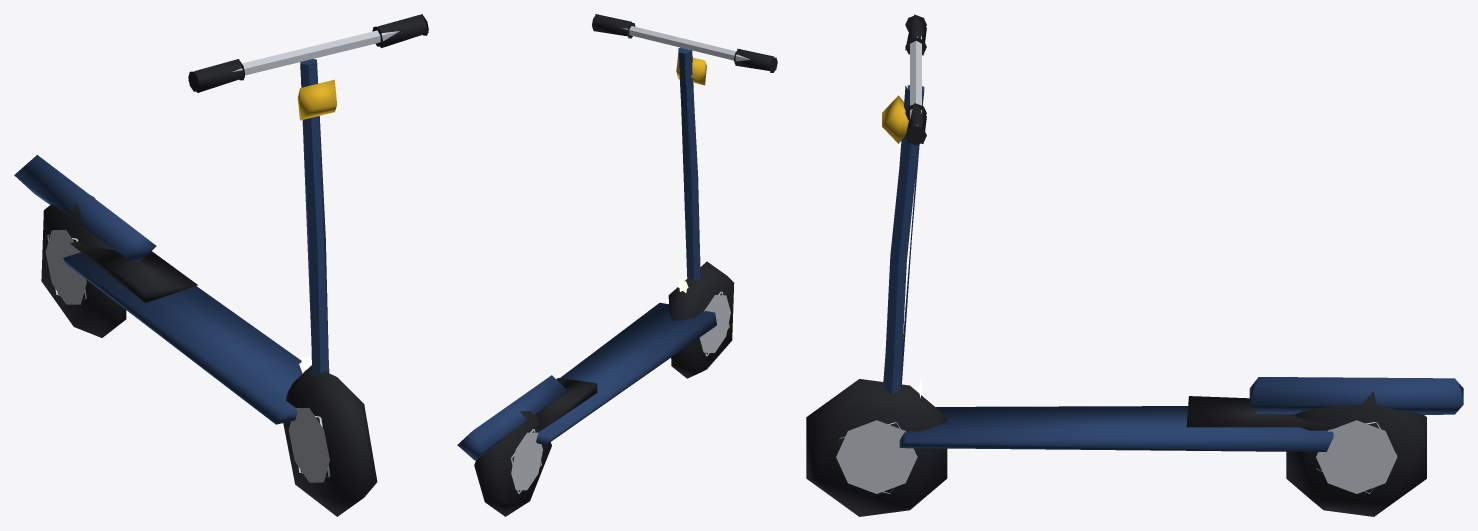
Rendered from lod_kick_scooter.glb.
3 views of the same model, side by side, from view 1: azimuth 30°, elevation 25°; view 2: azimuth 150°, elevation 25°; view 3: azimuth 270°, elevation 25° (orthographic). The views are drawn at different scales.
Parts seen in each view (by area): view 1: kick_scooter; view 2: kick_scooter; view 3: kick_scooter.
Boxes of the visible parts, x1,y1,x2,y2 form: kick_scooter: [14, 14, 428, 516]; kick_scooter: [457, 14, 777, 516]; kick_scooter: [806, 14, 1463, 516].
Size of the model in its own units: 0.6 by 1.13 by 1.51.
